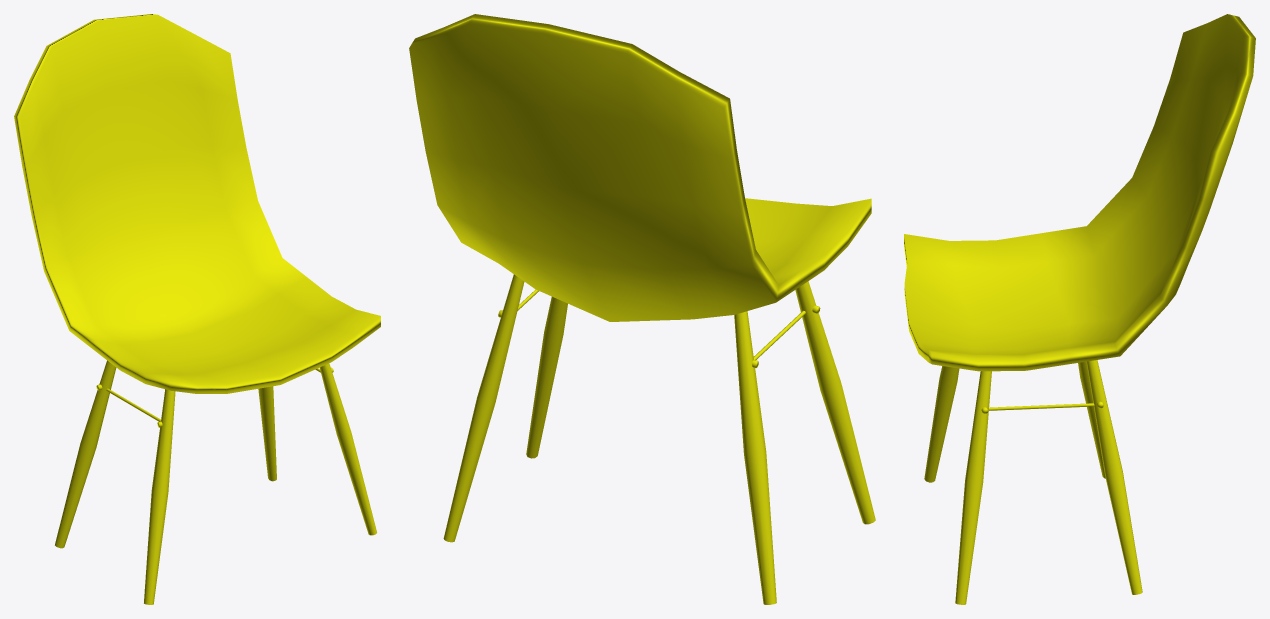
File: SILLITA.fbx
The picture shows the model from 3 angles, left to right: view 1: azimuth 30°, elevation 25°; view 2: azimuth 150°, elevation 25°; view 3: azimuth 270°, elevation 25°; orthographic projection. The views are drawn at different scales.
Parts seen in each view (by area): view 1: SILLITA; view 2: SILLITA; view 3: SILLITA.
Part boxes in pixels (x1=…): SILLITA: x1=14, y1=14, x2=380, y2=604; SILLITA: x1=409, y1=14, x2=875, y2=604; SILLITA: x1=904, y1=14, x2=1255, y2=604.
Size of the model in its own units: 0.9234 by 1.58 by 1.01.
